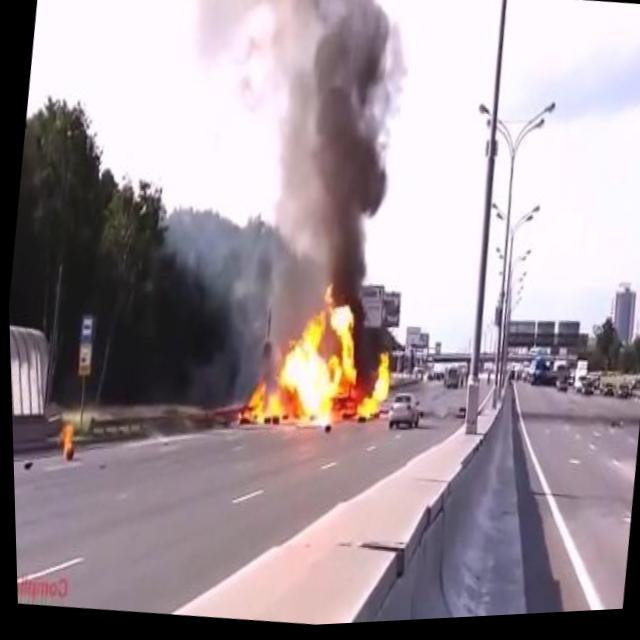fire: (229, 266, 404, 454), (51, 414, 78, 465)
